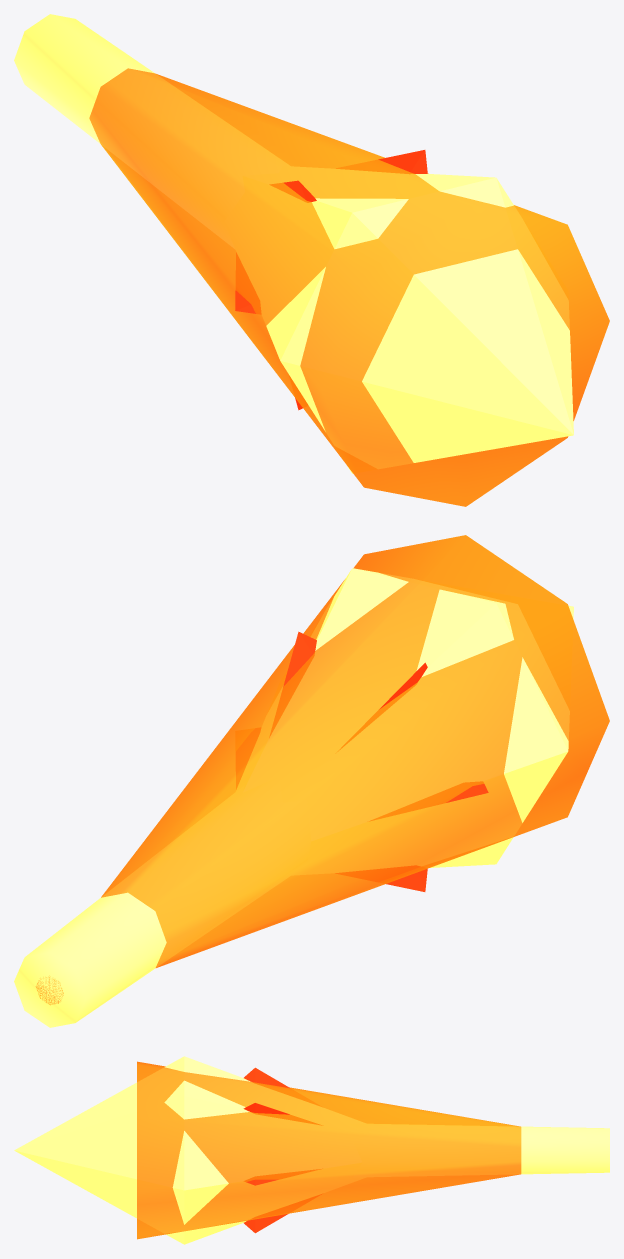
File: fx_lance_x.glb
The picture shows the model from 3 angles, top to bottom: view 1: azimuth 30°, elevation 25°; view 2: azimuth 150°, elevation 25°; view 3: azimuth 270°, elevation 25°; orthographic projection. The views are drawn at different scales.
Parts seen in each view (by area): view 1: fx_lance_x; view 2: fx_lance_x; view 3: fx_lance_x.
Boxes of the visible parts, x1,y1,x2,y2 form: fx_lance_x: (14, 14, 609, 506); fx_lance_x: (14, 535, 609, 1027); fx_lance_x: (14, 1056, 609, 1244).
Bounding box in the file's own units: 0.4 × 0.4 × 1.26.
